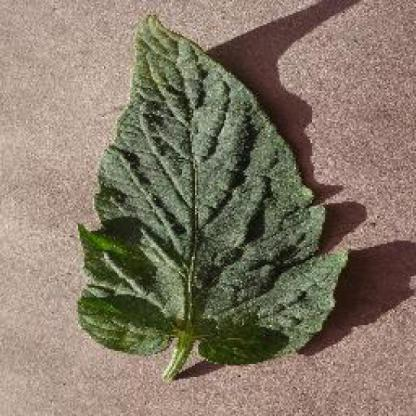Tomato_Spider_Mites: (79, 12, 348, 360)
